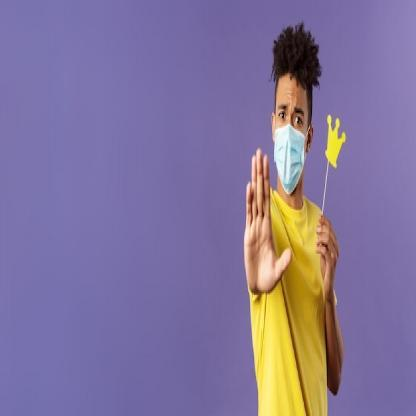stop: (242, 146, 292, 303)
